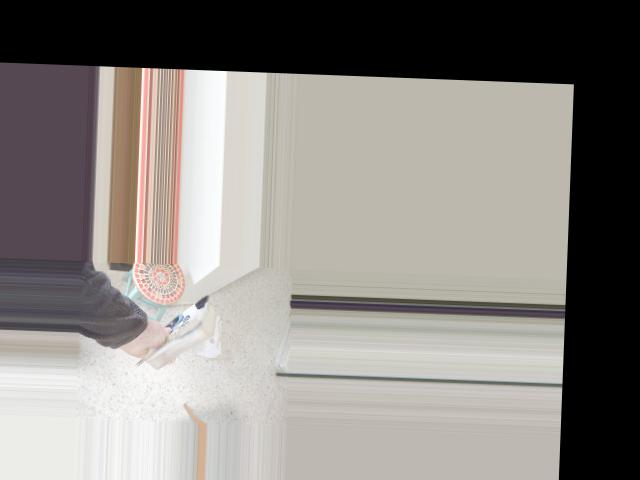cheese: (121, 280, 230, 381)
